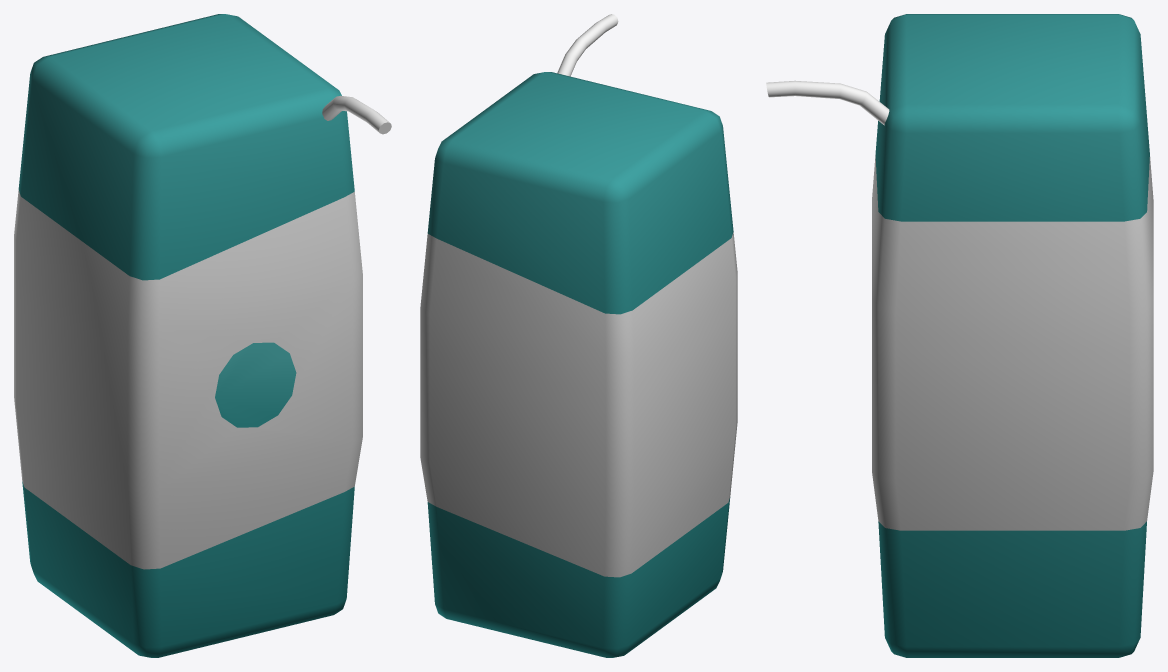
The model's file is Juice Carton_2.fbx.
3 views of the same model, side by side, from view 1: azimuth 30°, elevation 25°; view 2: azimuth 150°, elevation 25°; view 3: azimuth 270°, elevation 25° (orthographic). The views are drawn at different scales.
Visible parts, largest first — view 1: Juice Carton_2; view 2: Juice Carton_2; view 3: Juice Carton_2.
Part boxes in pixels (x1,y1,x2,y2): Juice Carton_2: [14, 14, 391, 657]; Juice Carton_2: [420, 14, 737, 657]; Juice Carton_2: [766, 14, 1153, 657].
Bounding box in the file's own units: 0.0356 × 0.0797 × 0.049.
